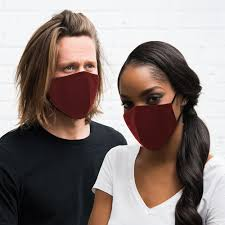cloth_mask: (120, 102, 183, 151), (46, 72, 101, 120)
